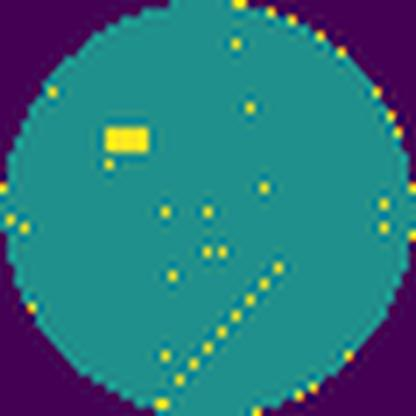Edge-Loc: (101, 125, 150, 153)
